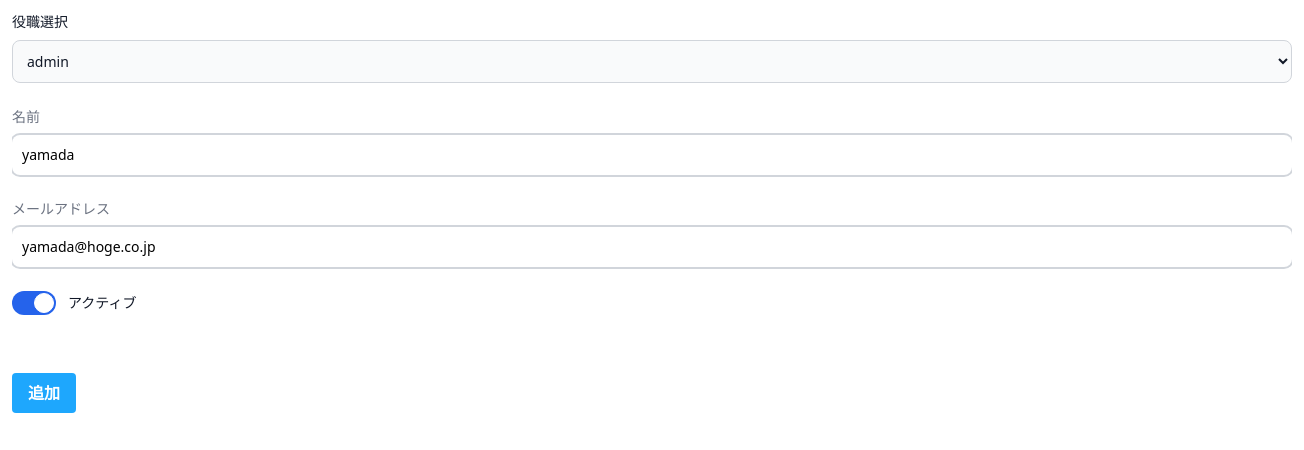
Test case: メンバー追加Formのテスト › 名前が未入力で追加ボタンをクリックするとエラーメッセージが表示されること
Step 1. Clear the field labelled "名前" → coordinates (652, 155), box left=12, top=135, right=1292, bottom=175
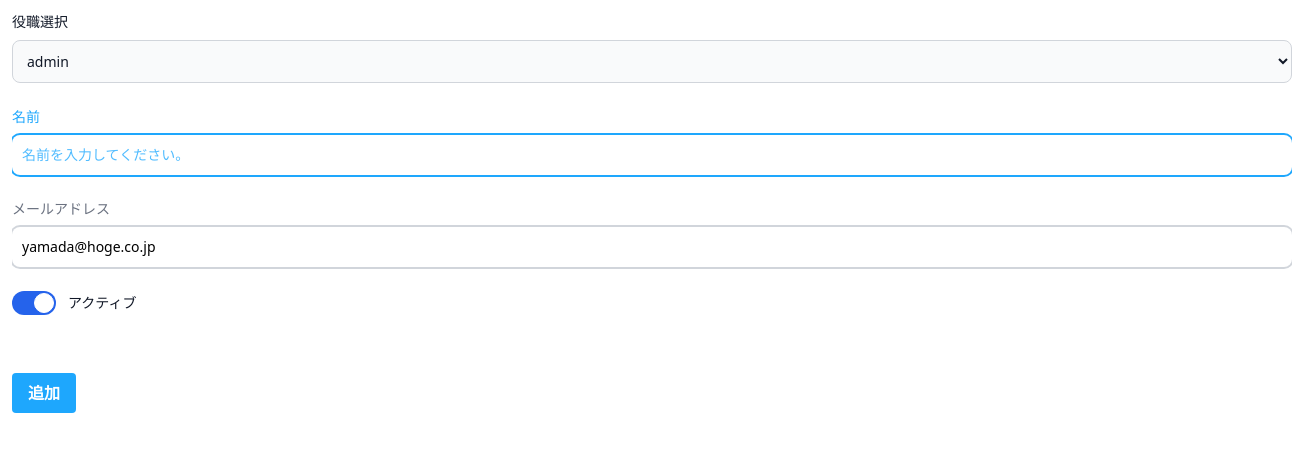
Step 2. Click the button "追加" → coordinates (44, 393), box left=12, top=373, right=76, bottom=413
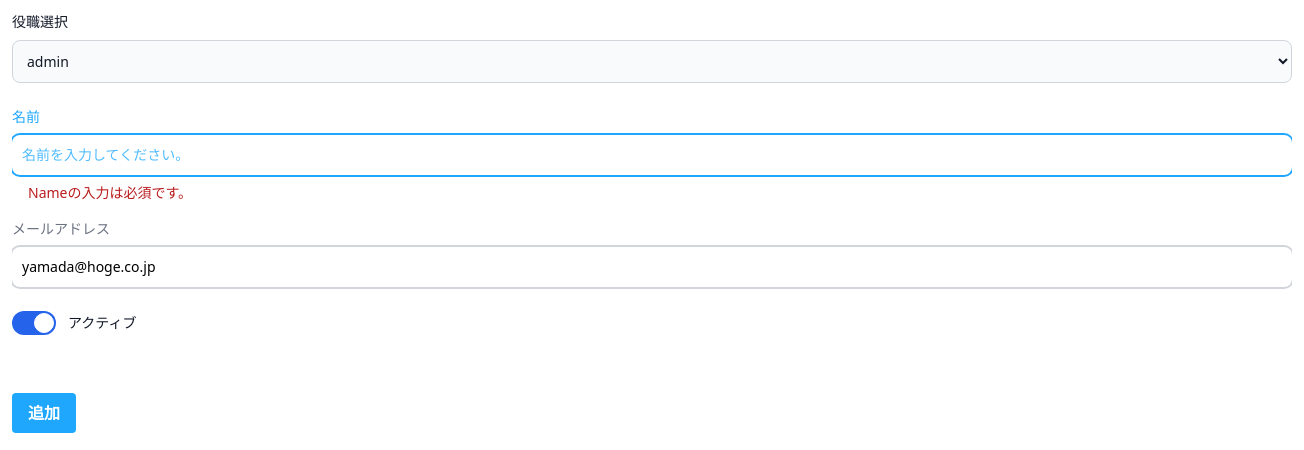
Expected: the text "Nameの入力は必須です。" is shown, left=28, top=183, right=192, bottom=202
